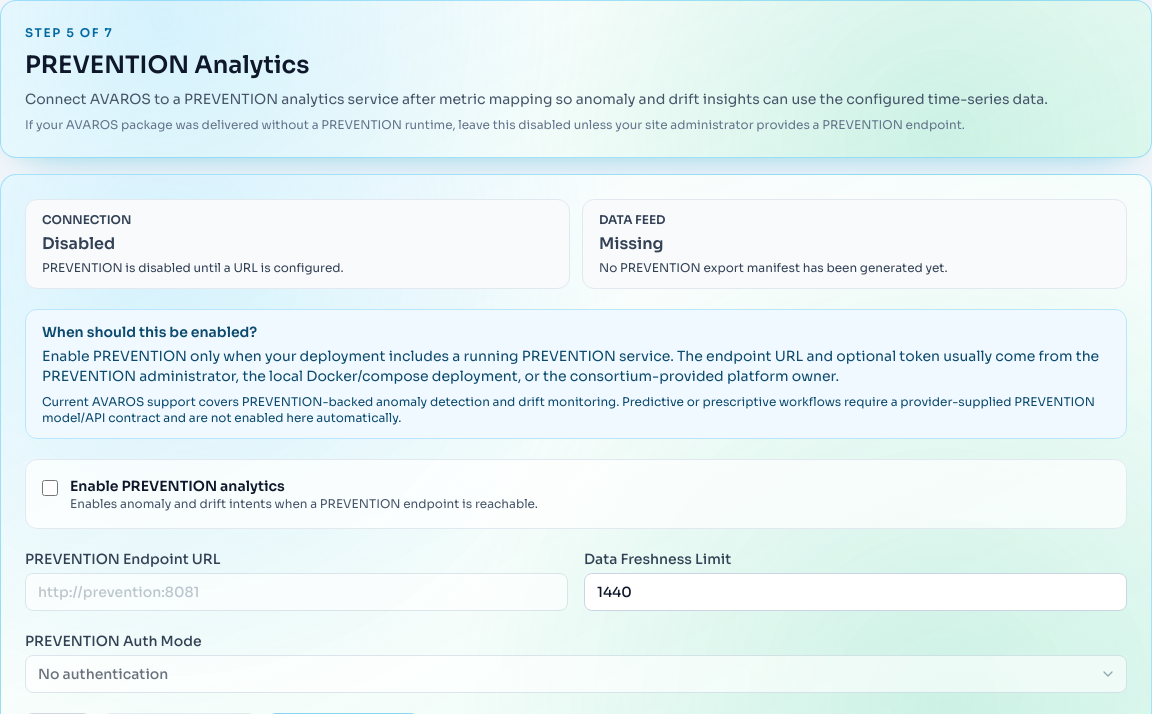
it: PreventionAnalyticsStep › shows bearer token field when bearer auth is selected
Click the checkbox labelled "Enable PREVENTION analytics" at (50, 488), box [42,480,58,496]
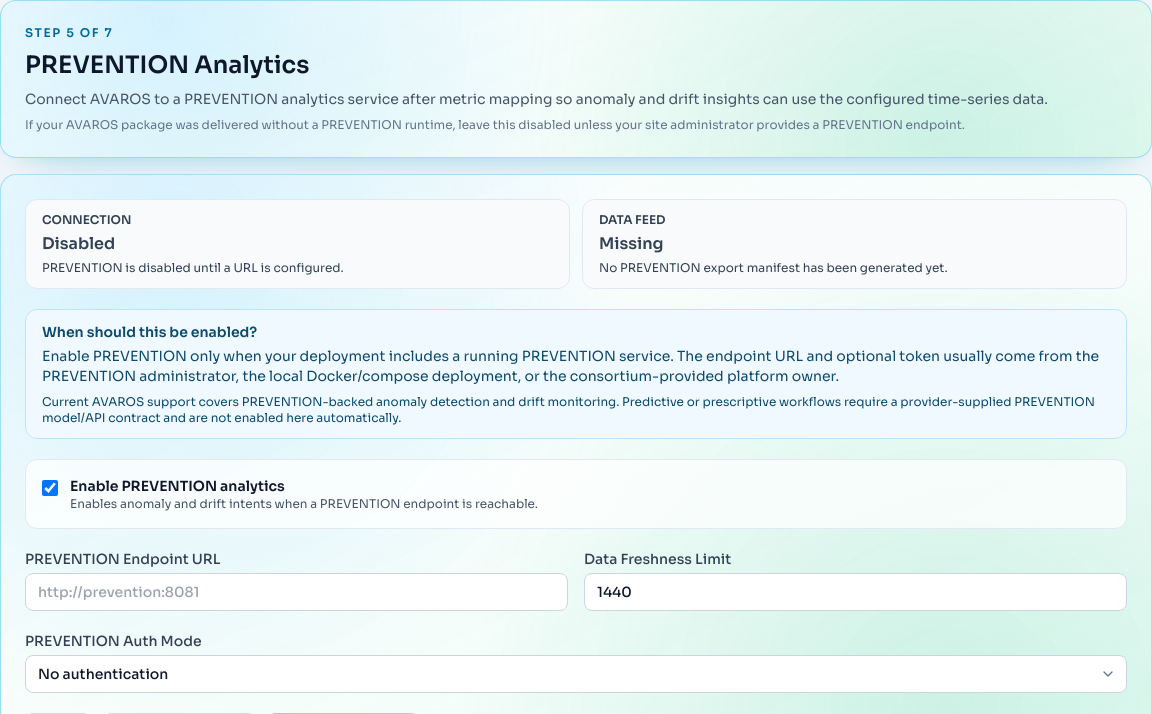
Select "Bearer token" in the dropdown labelled "PREVENTION Auth Mode" at (576, 674), box [25,655,1127,693]
(page scrolled)
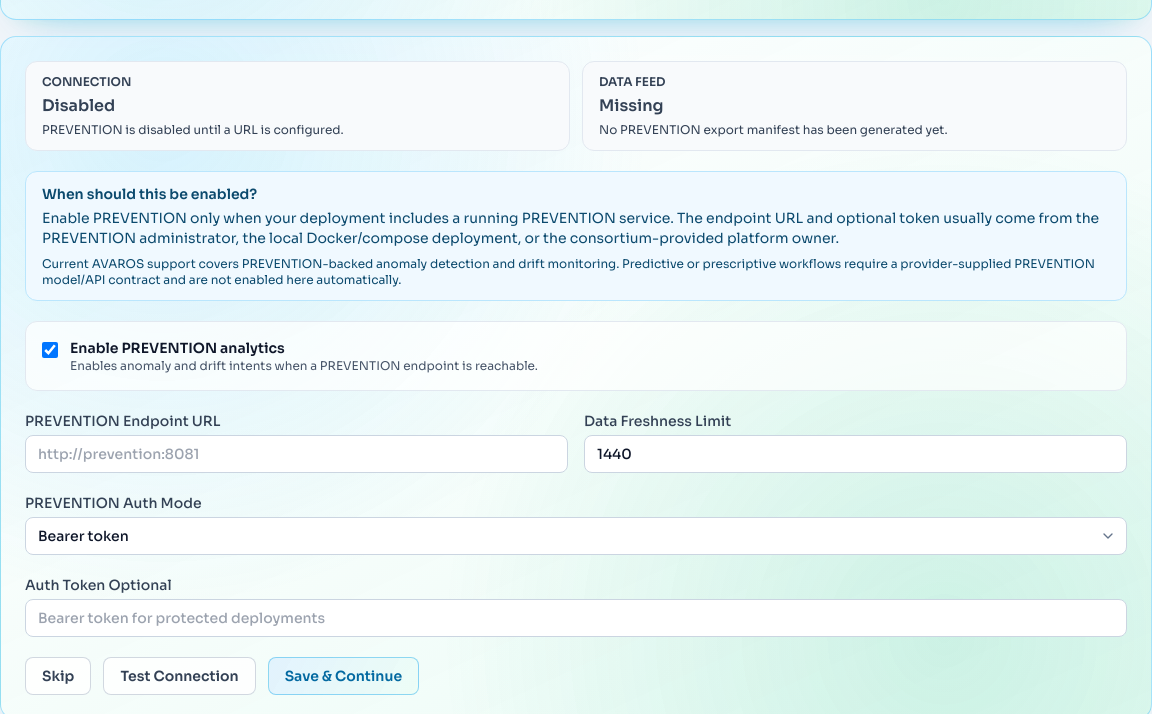
Result: the password field labelled "Auth Token Optional" is shown at [25,599,1127,637]
